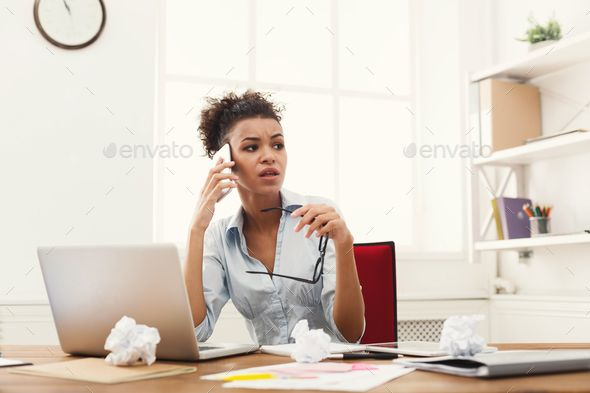phone: (200, 144, 239, 203)
talk: (195, 132, 288, 219)
